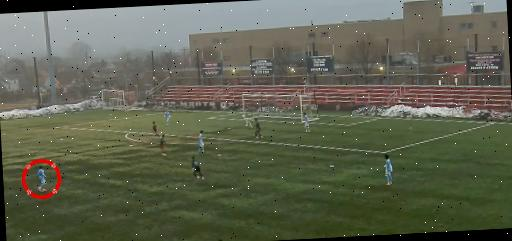highlight_overlay: (20, 157, 62, 200)
